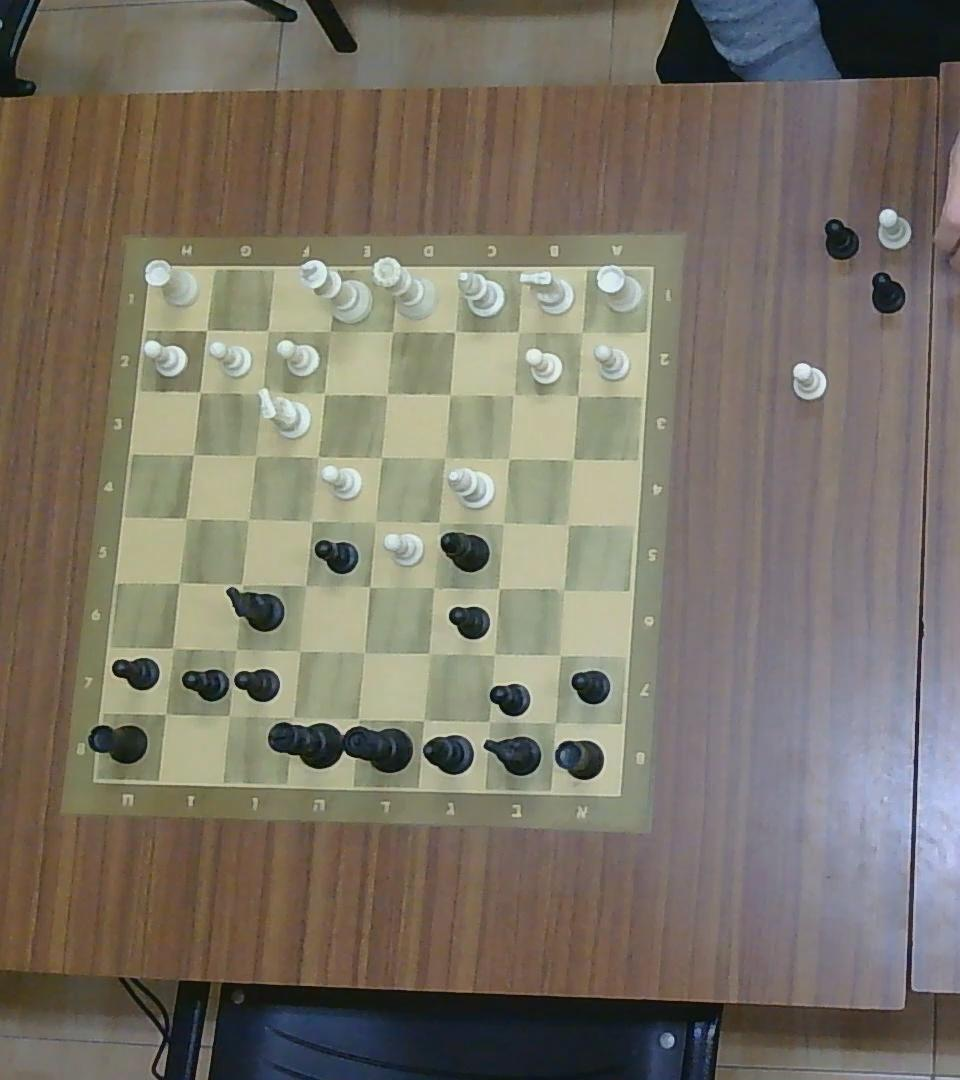xcorner: (345, 706, 371, 731), (216, 702, 241, 728), (475, 708, 500, 732), (154, 701, 178, 725), (412, 708, 435, 732), (278, 707, 302, 730), (543, 711, 568, 733), (288, 640, 311, 662), (353, 642, 375, 664), (319, 319, 341, 341), (175, 507, 197, 528), (245, 443, 267, 464), (162, 637, 184, 658), (419, 642, 440, 663), (230, 573, 251, 594), (363, 511, 385, 531), (360, 576, 380, 597), (182, 443, 202, 464), (381, 320, 401, 341), (483, 644, 504, 664), (376, 382, 395, 404), (370, 447, 390, 467), (169, 572, 189, 592), (225, 639, 245, 659), (423, 577, 443, 597), (568, 384, 587, 405), (499, 447, 518, 467), (238, 509, 257, 529), (445, 320, 464, 340), (296, 575, 315, 595), (440, 383, 459, 403), (429, 511, 448, 531), (302, 509, 320, 530), (564, 449, 583, 468), (494, 513, 513, 532), (196, 319, 215, 338), (508, 321, 527, 340), (504, 385, 523, 404), (308, 445, 326, 465), (559, 515, 578, 533), (315, 383, 333, 402), (573, 321, 591, 340), (259, 321, 277, 340), (550, 647, 569, 665), (489, 579, 507, 598), (555, 579, 573, 598), (435, 448, 453, 466), (190, 382, 208, 400), (253, 382, 271, 400)
